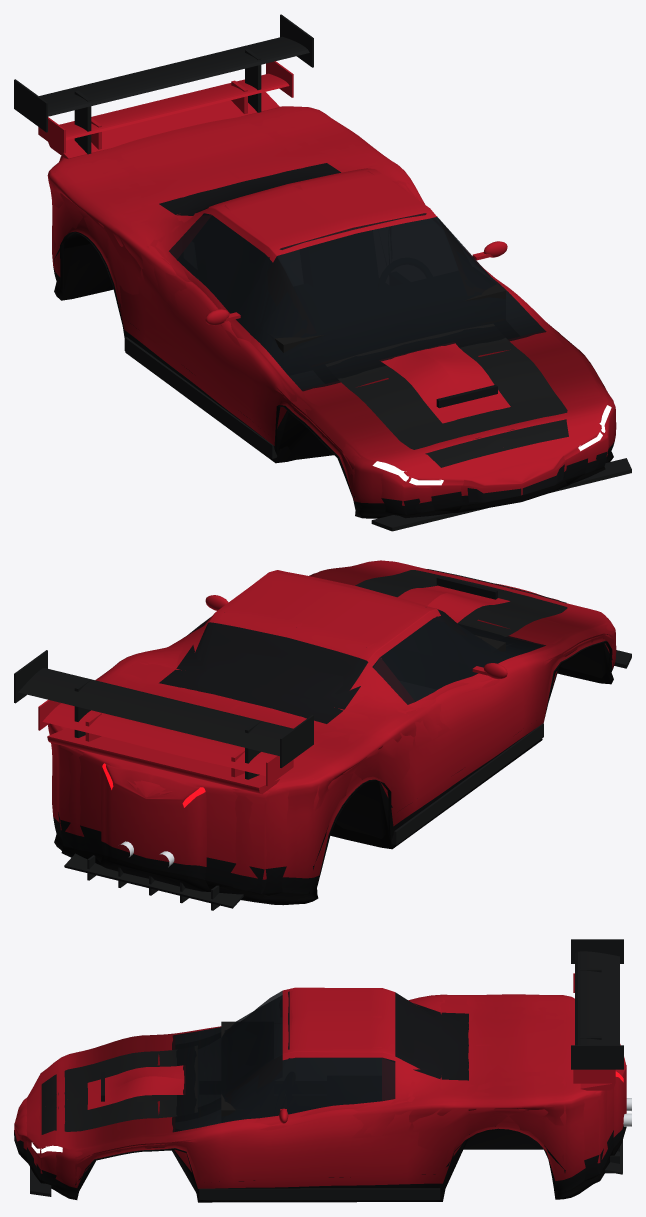
File: sr_chevrolet_corvette_c8.glb
3 views of the same model, one above another, from view 1: azimuth 30°, elevation 25°; view 2: azimuth 150°, elevation 25°; view 3: azimuth 270°, elevation 25° (orthographic). The views are drawn at different scales.
Parts seen in each view (by area): view 1: body (×2), hood_3, spoiler_3, hood_1, spoiler_2, bumper_1, spoiler_1, grille, mirrors, headlights; view 2: body (×2), spoiler_3, spoiler_2, bumper_1, hood_3, spoiler_1, hood_1, mirrors, hood_1_intake; view 3: body (×2), spoiler_3, hood_3, bumper_1, hood_1, spoiler_2.
Part boxes in pixels (left/top/right/bottom): body (×2): left=47, top=106, right=616, bottom=518; hood_3: left=325, top=323, right=568, bottom=467; spoiler_3: left=14, top=14, right=313, bottom=154; hood_1: left=381, top=343, right=510, bottom=423; spoiler_2: left=38, top=61, right=293, bottom=153; bumper_1: left=124, top=337, right=631, bottom=531; spoiler_1: left=48, top=92, right=279, bottom=158; grille: left=467, top=464, right=564, bottom=502; mirrors: left=205, top=241, right=507, bottom=325; headlights: left=372, top=405, right=611, bottom=485; body (×2): left=48, top=560, right=616, bottom=905; spoiler_3: left=14, top=650, right=313, bottom=779; spoiler_2: left=38, top=699, right=293, bottom=786; bumper_1: left=64, top=650, right=631, bottom=910; hood_3: left=355, top=569, right=567, bottom=636; spoiler_1: left=47, top=728, right=279, bottom=794; hood_1: left=397, top=585, right=509, bottom=623; mirrors: left=205, top=595, right=507, bottom=679; hood_1_intake: left=436, top=576, right=497, bottom=599; body (×2): left=14, top=987, right=626, bottom=1202; spoiler_3: left=571, top=939, right=623, bottom=1069; hood_3: left=41, top=1045, right=197, bottom=1134; bumper_1: left=30, top=1140, right=622, bottom=1199; hood_1: left=87, top=1065, right=184, bottom=1109; spoiler_2: left=573, top=973, right=615, bottom=1083.
Size of the model in its own units: 2.15 by 1.32 by 4.67.
